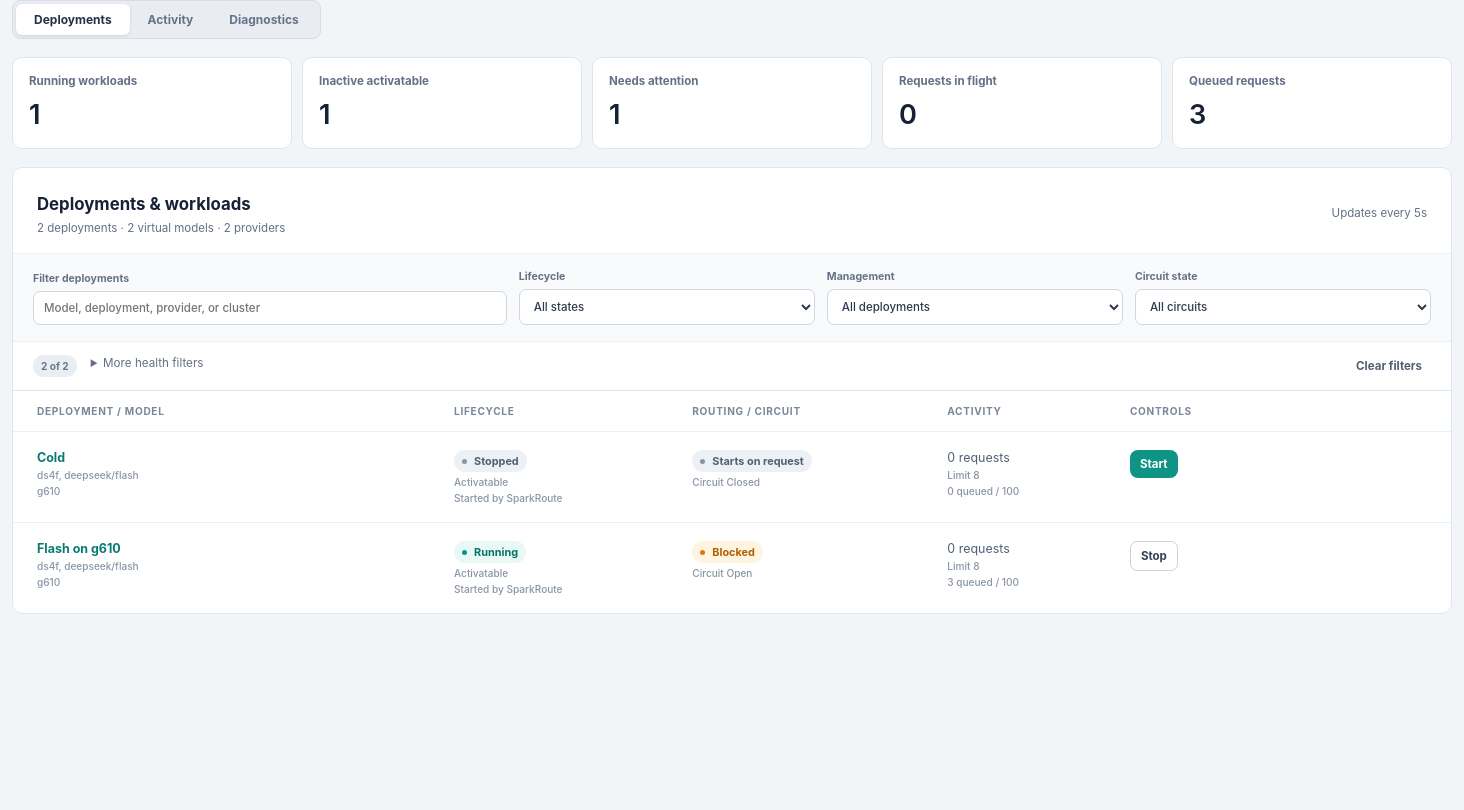
it: keeps lifecycle independent of circuit health and treats stopped on-demand workloads as normal
The width and height of the screenshot is (1464, 810).
Expected: the text "Stopped" is shown, x1=454 y1=450 x2=527 y2=472
Expected: the text "Starts on request" is shown, x1=692 y1=450 x2=812 y2=472
Click the button "Needs attention 1" at (654, 81), box x1=592 y1=57 x2=872 y2=149
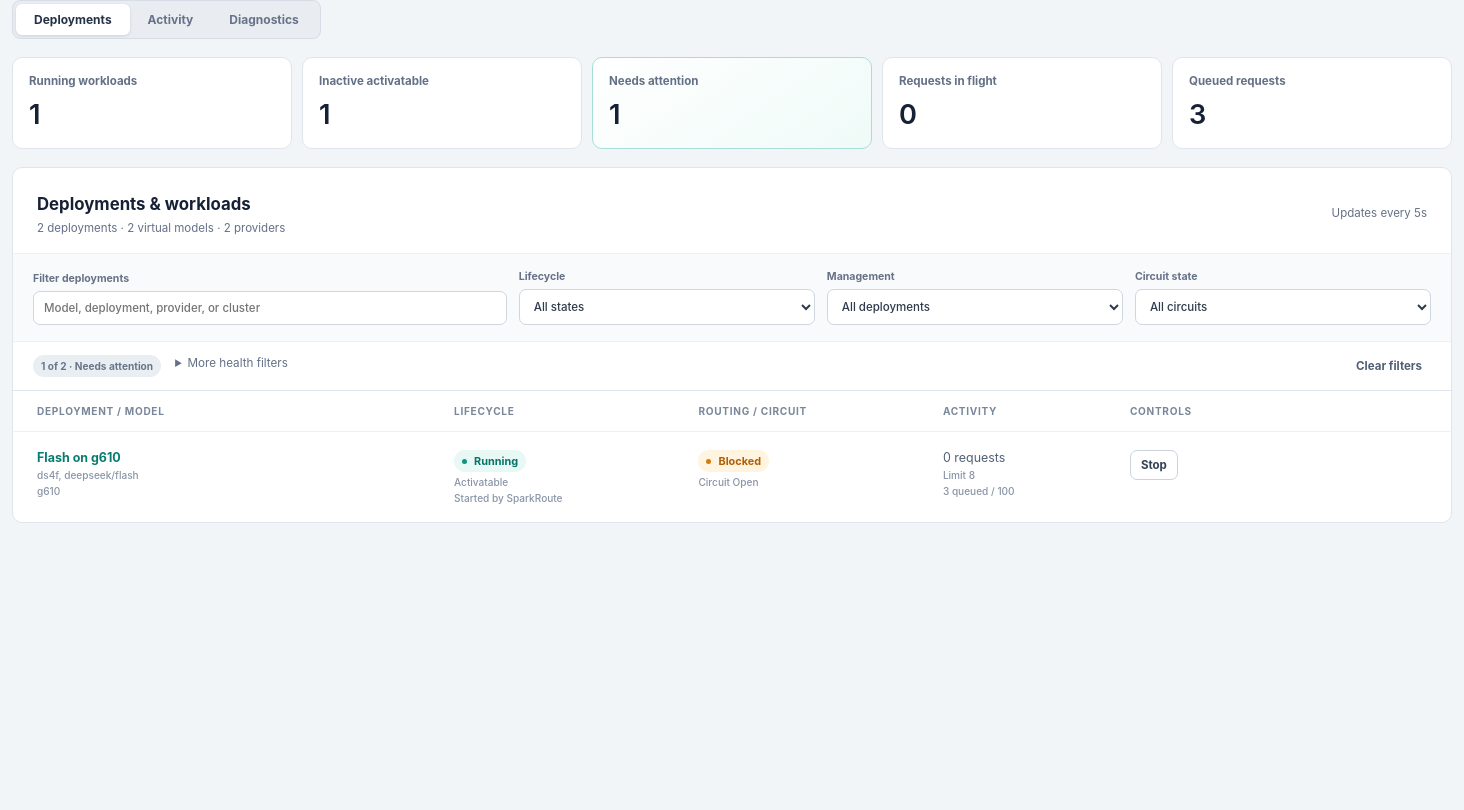
Expected: the button "Cold" is gone
